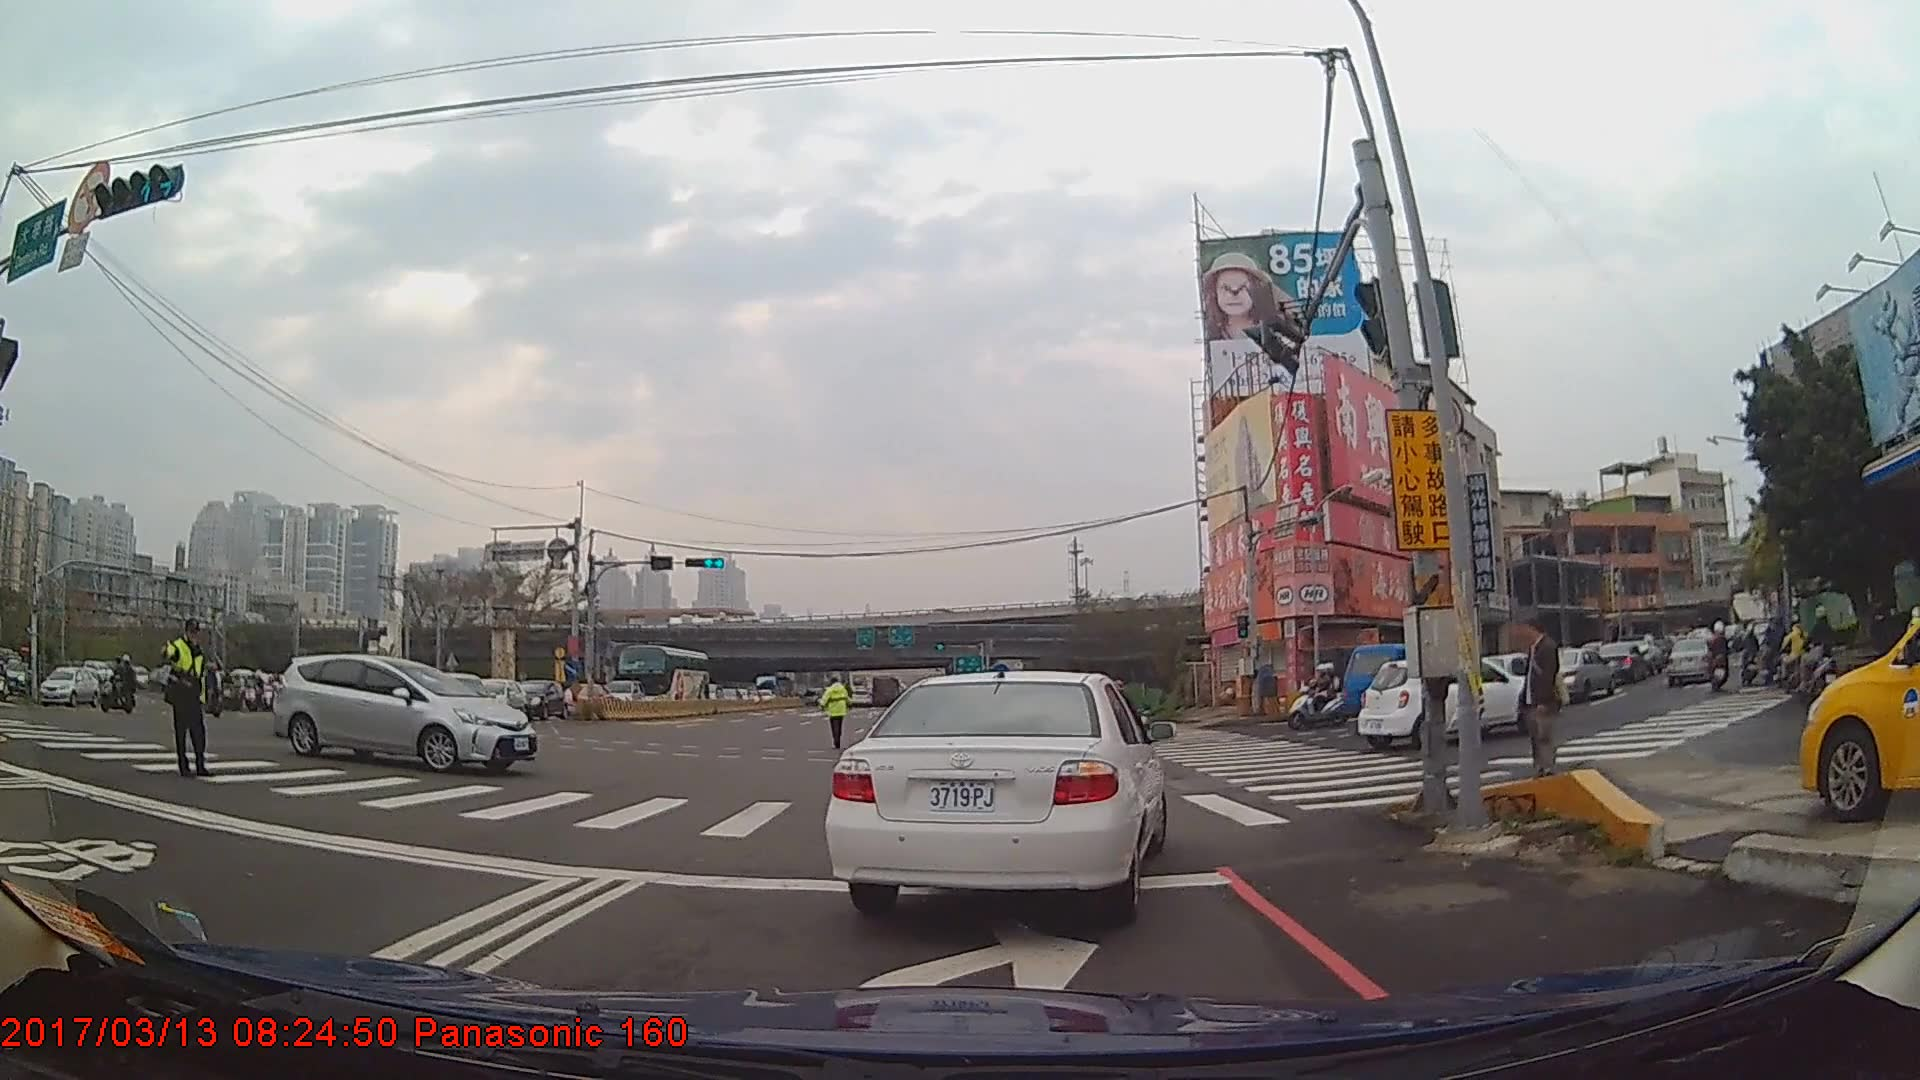pedestrian: (1515, 617, 1570, 780), (159, 617, 215, 778), (819, 673, 851, 754)
rider: (1791, 607, 1841, 699), (1290, 663, 1346, 733), (1778, 614, 1813, 696), (100, 652, 139, 716), (1765, 619, 1795, 693), (1707, 623, 1733, 696), (194, 667, 225, 718), (1739, 626, 1761, 689)
vehicle: (826, 669, 1169, 922), (275, 652, 540, 774), (1798, 625, 1920, 824), (1356, 652, 1543, 752), (615, 642, 710, 709), (1542, 647, 1615, 703), (1663, 634, 1717, 688), (34, 662, 97, 706), (513, 677, 568, 719), (1593, 642, 1647, 683)
